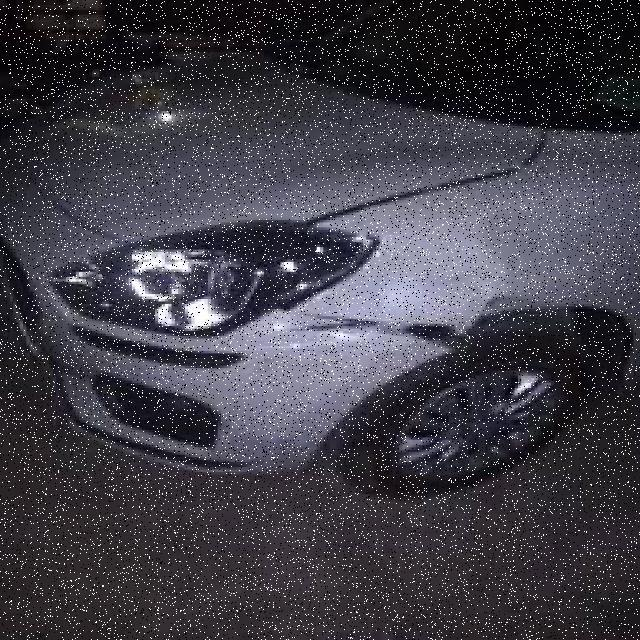front-bumper-dent: (205, 297, 492, 490)
